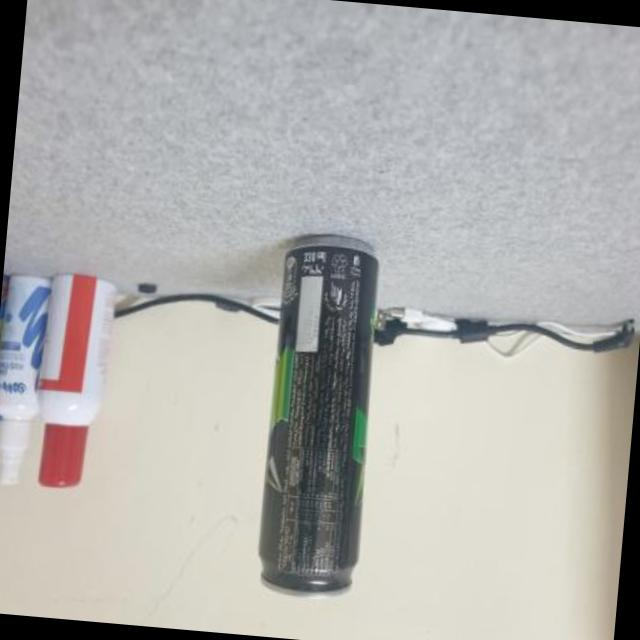metal: (257, 238, 375, 598)
